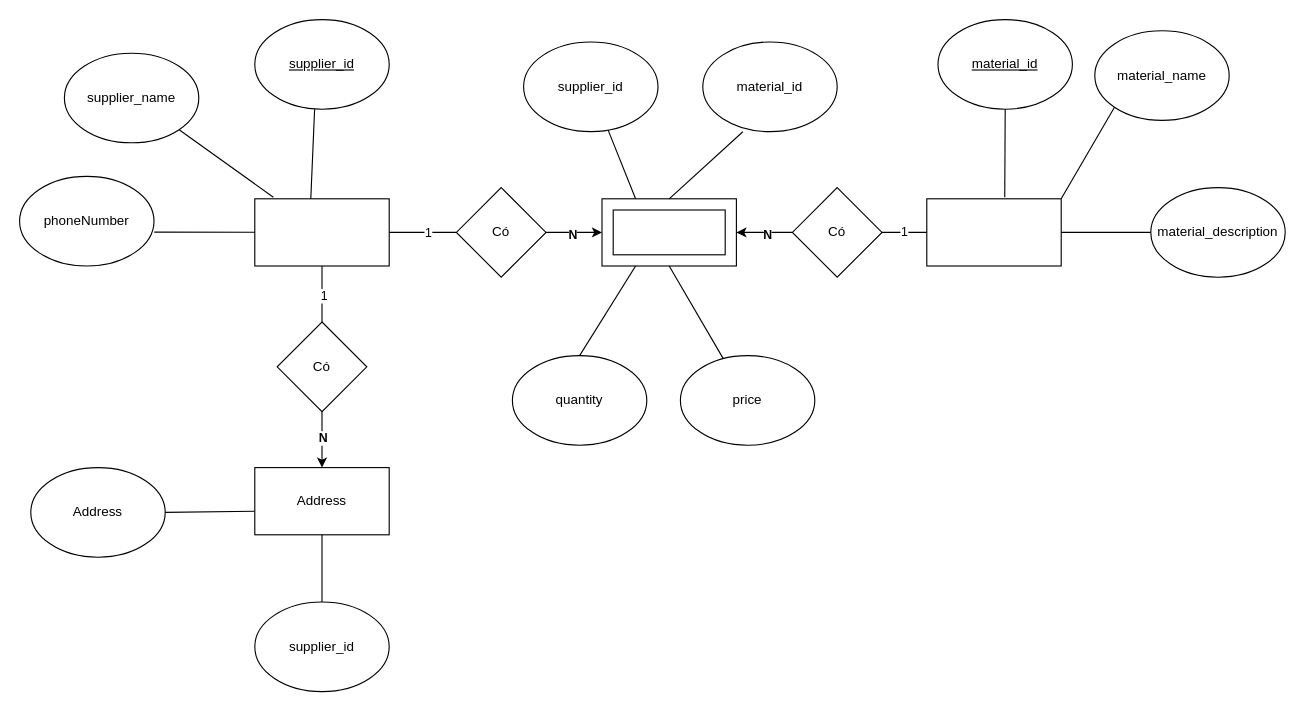
Image size: 1305x711. Some labels were removed from this diagram. The centre of each missing label's shape, as x and y in pixels:
"Material" goes at [993,232].
"Orders" goes at [668,232].
"Supplier" goes at [321,232].
